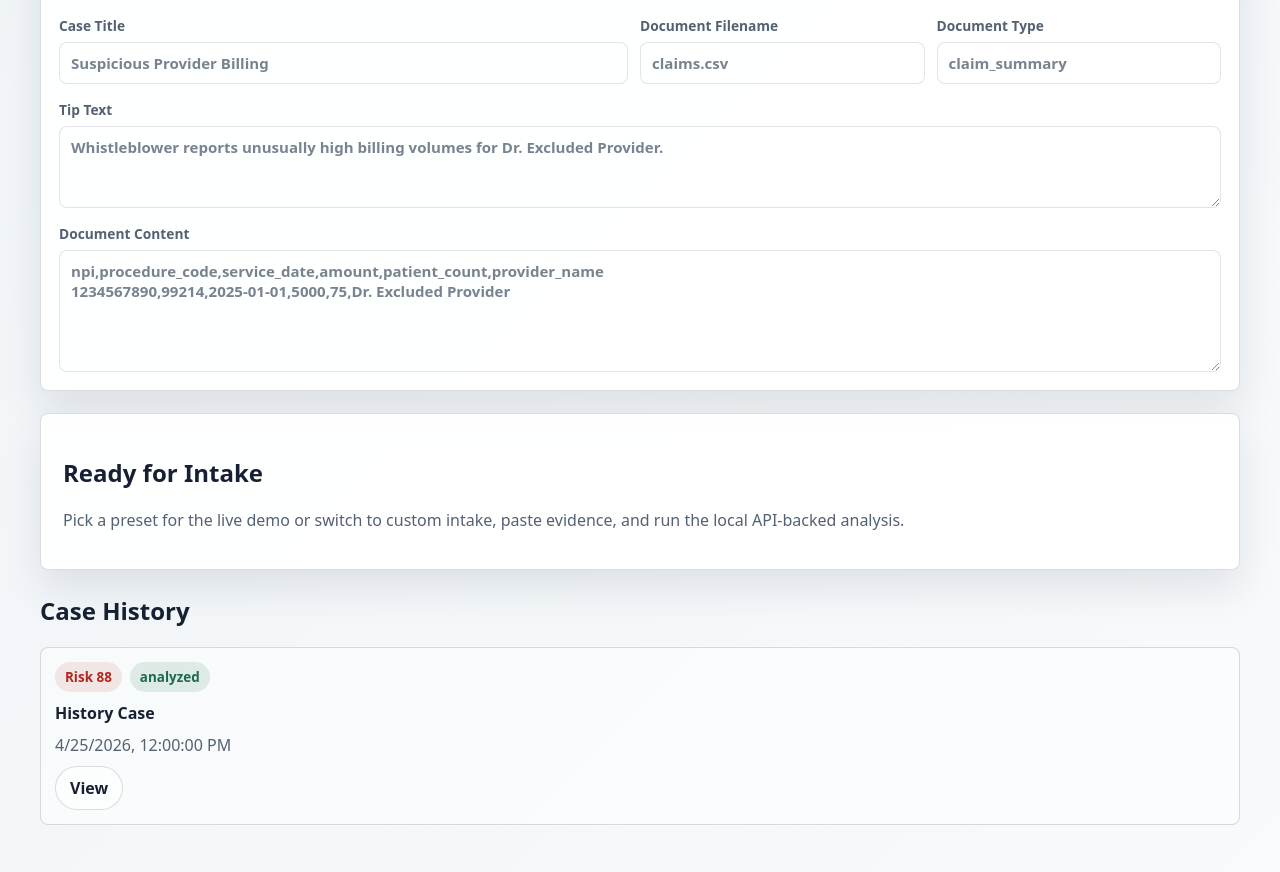
Test: HomePage › loads a prior case from case history when selected
(page scrolled)
Step 1. Click the button with aria-label "view history case" → (89, 788), box x1=55 y1=766 x2=123 y2=810
(page scrolled)
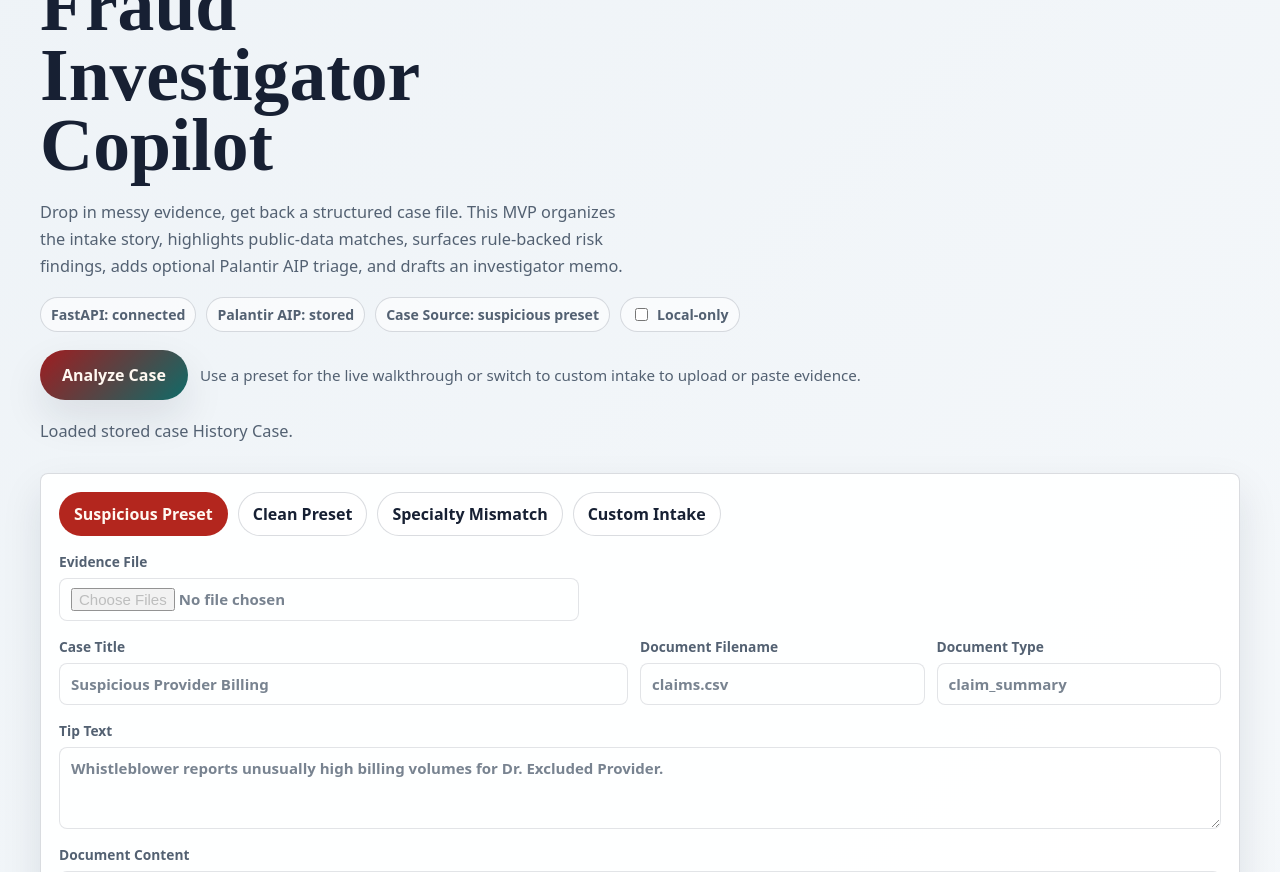
expect the text "Loaded stored case History Case." is shown: met, box x1=40 y1=420 x2=293 y2=442
